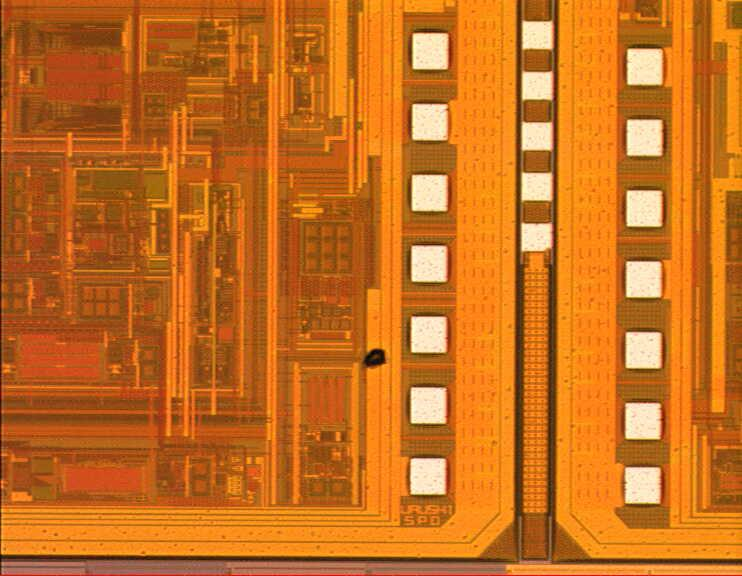PIQ PARTICLE: (355, 341, 395, 381)
